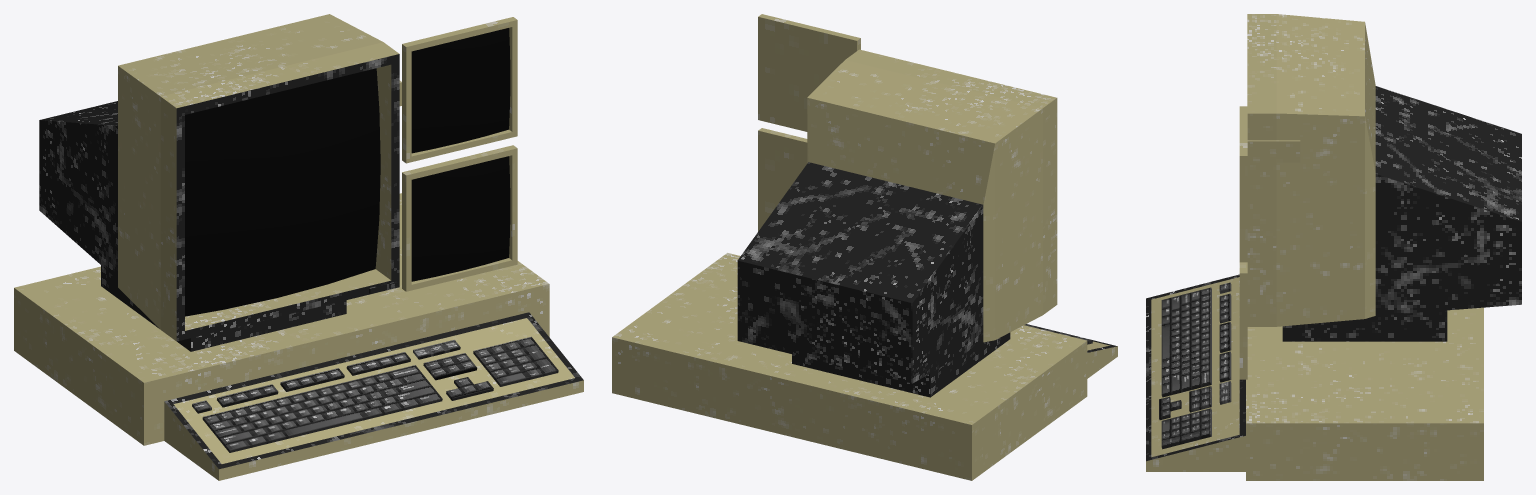
Rendered from pro2.glb.
The picture shows the model from 3 angles, left to right: view 1: azimuth 30°, elevation 25°; view 2: azimuth 150°, elevation 25°; view 3: azimuth 270°, elevation 25°; orthographic projection. The views are drawn at different scales.
Parts seen in each view (by area): view 1: CRTMonitor, Monitor1, Monitor3, Monitor2, CRTMonitorMini; view 2: CRTMonitor, CRTMonitorMini; view 3: CRTMonitor, CRTMonitorMini.
Boxes of the visible parts, <box> form: CRTMonitor: <box>14,14,583,480</box>; Monitor1: <box>185,68,380,316</box>; Monitor3: <box>411,28,510,153</box>; Monitor2: <box>411,156,510,281</box>; CRTMonitorMini: <box>402,17,517,291</box>; CRTMonitor: <box>612,49,1117,480</box>; CRTMonitorMini: <box>758,14,860,231</box>; CRTMonitor: <box>1146,14,1521,480</box>; CRTMonitorMini: <box>1239,106,1247,379</box>.
Size of the model in its own units: 0.7276 by 0.5798 by 0.6385.
6 materials, 3 textured.
